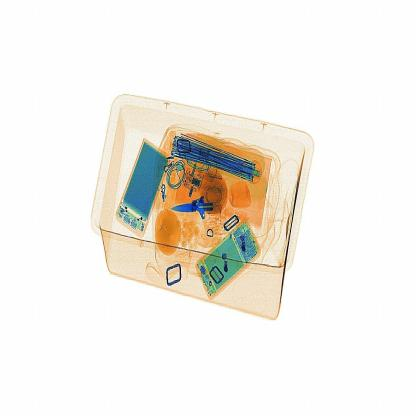gun: (166, 177, 236, 232)
